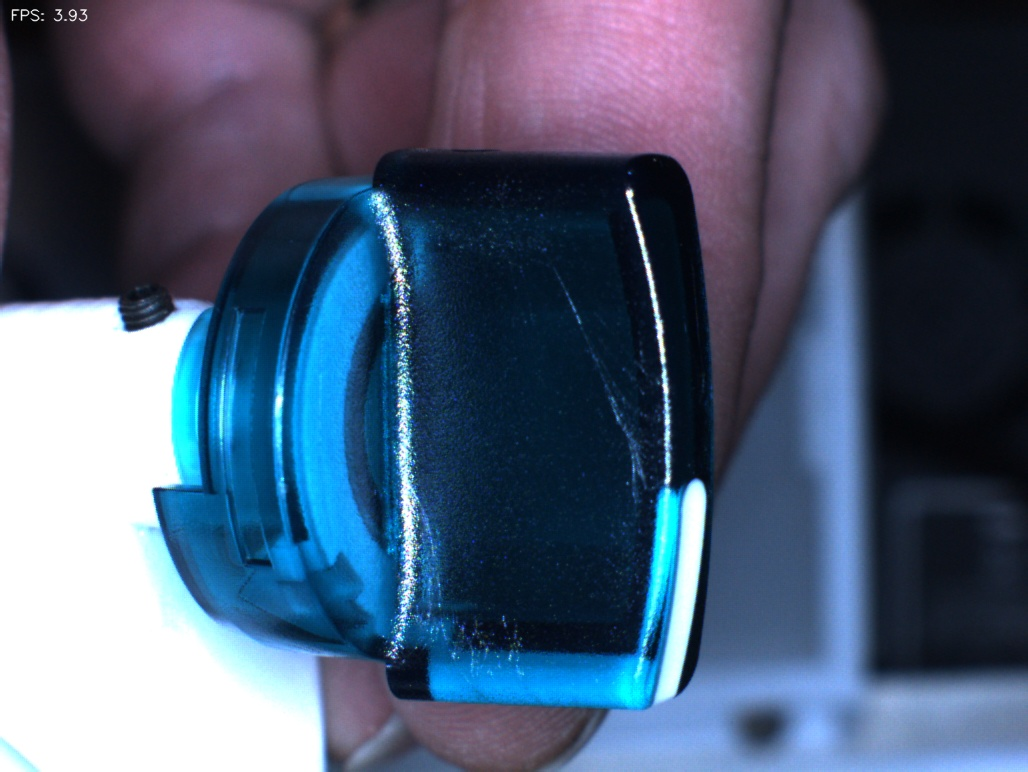Givrage: (441, 598, 542, 693)
